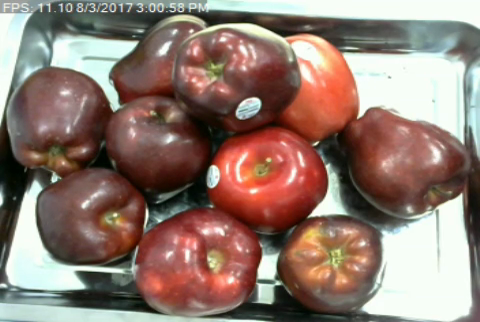Apple: (333, 103, 471, 220), (171, 18, 302, 135), (130, 204, 265, 317), (203, 123, 330, 238), (31, 165, 150, 267), (3, 63, 112, 174), (275, 210, 390, 315), (103, 92, 214, 194), (274, 30, 361, 145), (106, 11, 209, 102)
